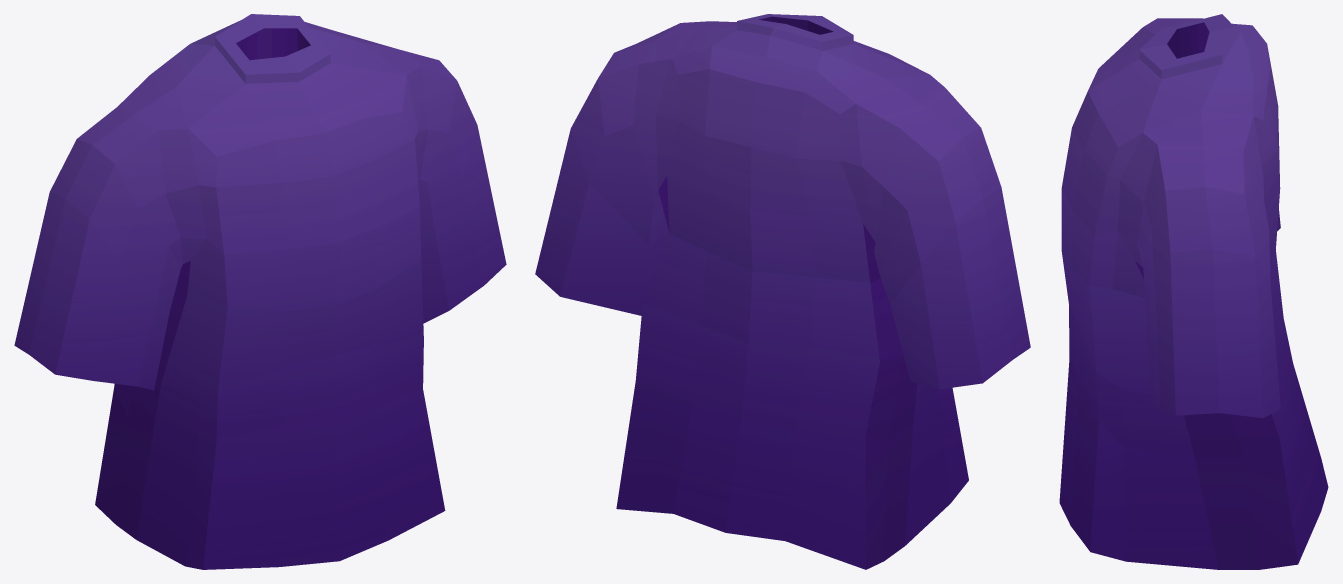
Rendered from TShirt_Blue.glb.
3 views of the same model, side by side, from view 1: azimuth 30°, elevation 25°; view 2: azimuth 150°, elevation 25°; view 3: azimuth 270°, elevation 25° (orthographic).
Visible parts, largest first — view 1: TShirt_Blue; view 2: TShirt_Blue; view 3: TShirt_Blue.
Part boxes in pixels (x1,y1,x2,y2): TShirt_Blue: (14, 14, 506, 569); TShirt_Blue: (535, 14, 1030, 569); TShirt_Blue: (1059, 14, 1328, 569).
Bounding box in the file's own units: 2.43 × 2.48 × 1.25.
1 material, 1 textured.
